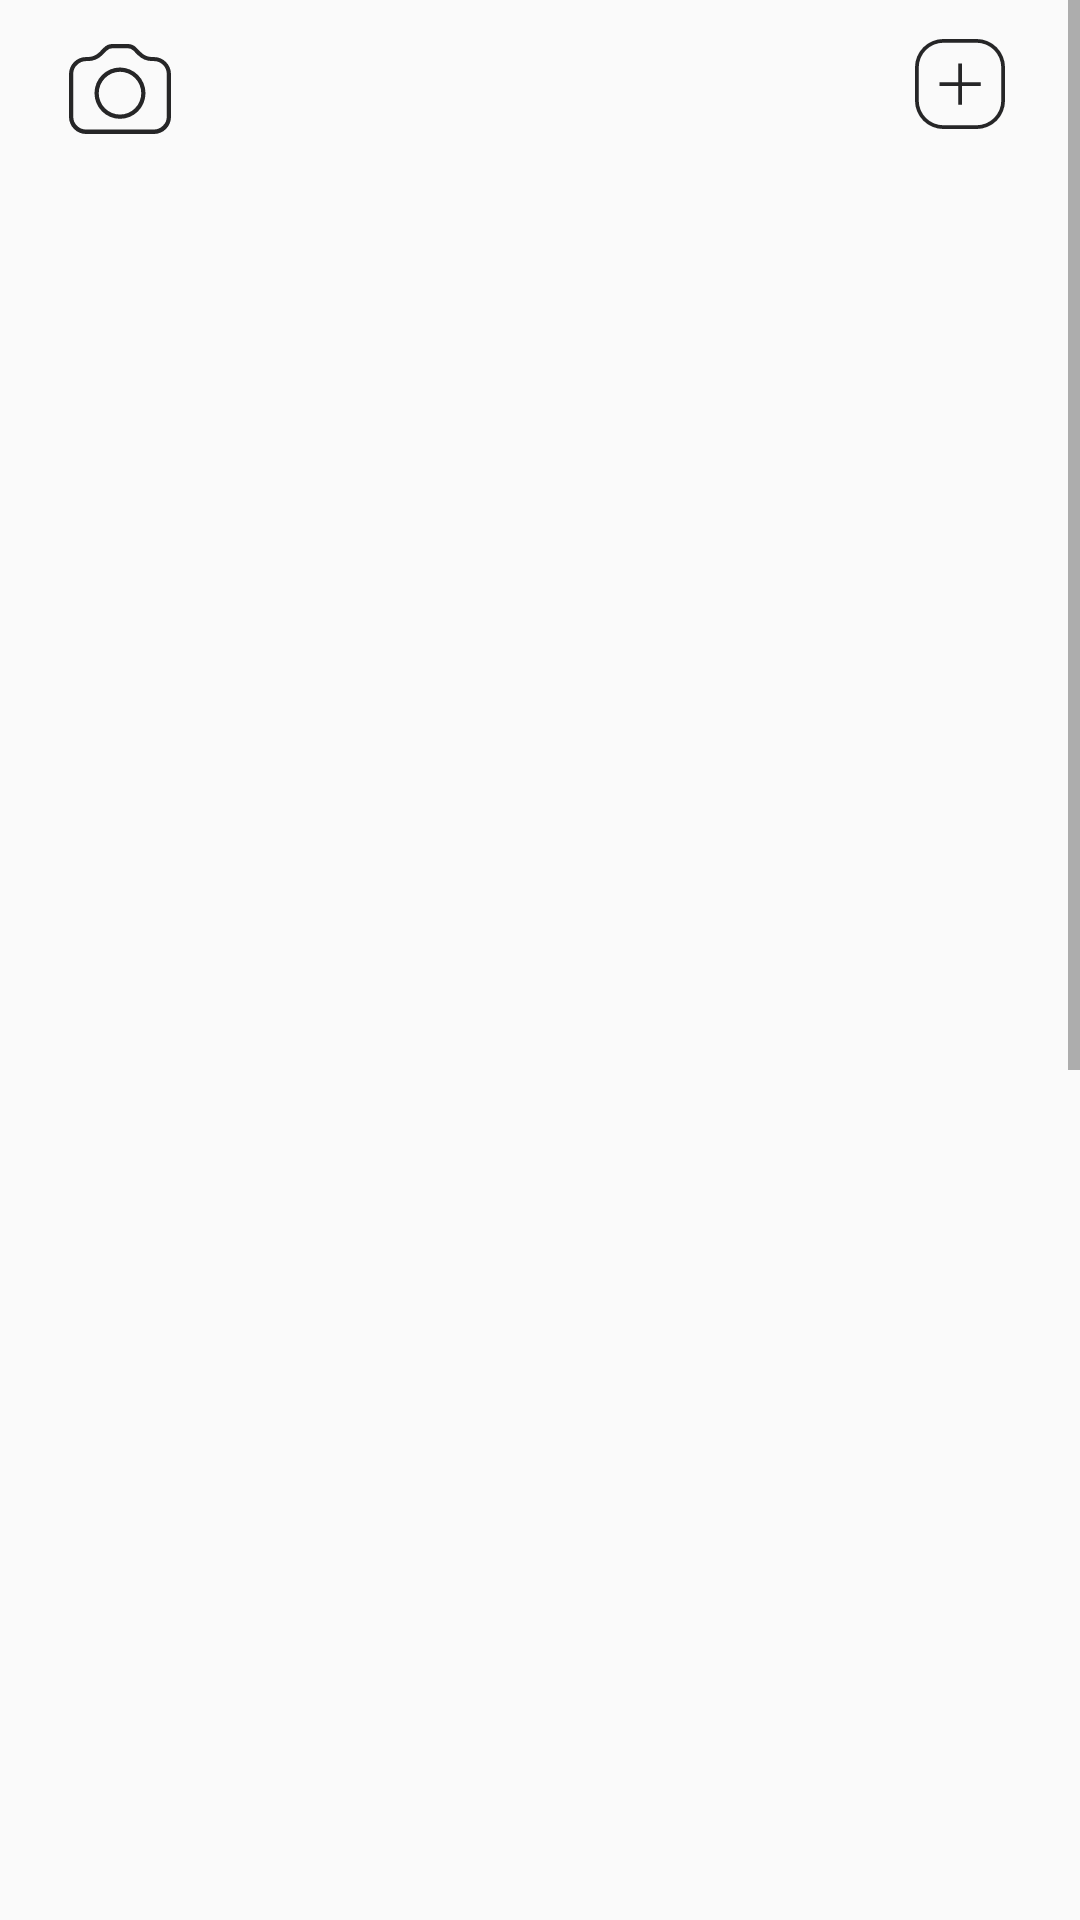

Screen size 1080 × 1920. Icon name, then its box in pixels as box=[x1, y1, x2, y2]:
add: box=[915, 39, 1005, 129]
